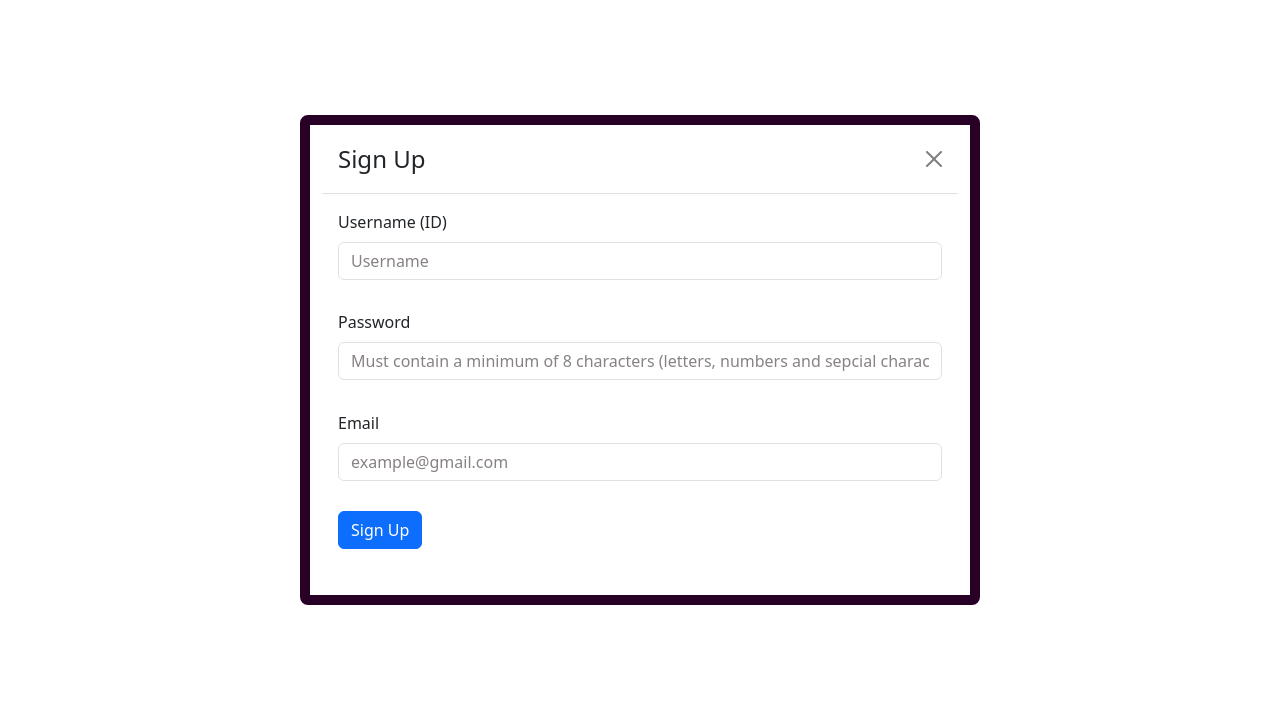
Test: Detects Invalid Email in Email Input via Regex
Type "ThisIsn'tValidString" into the field labelled "Email" at (640, 462), box [338, 442, 942, 480]
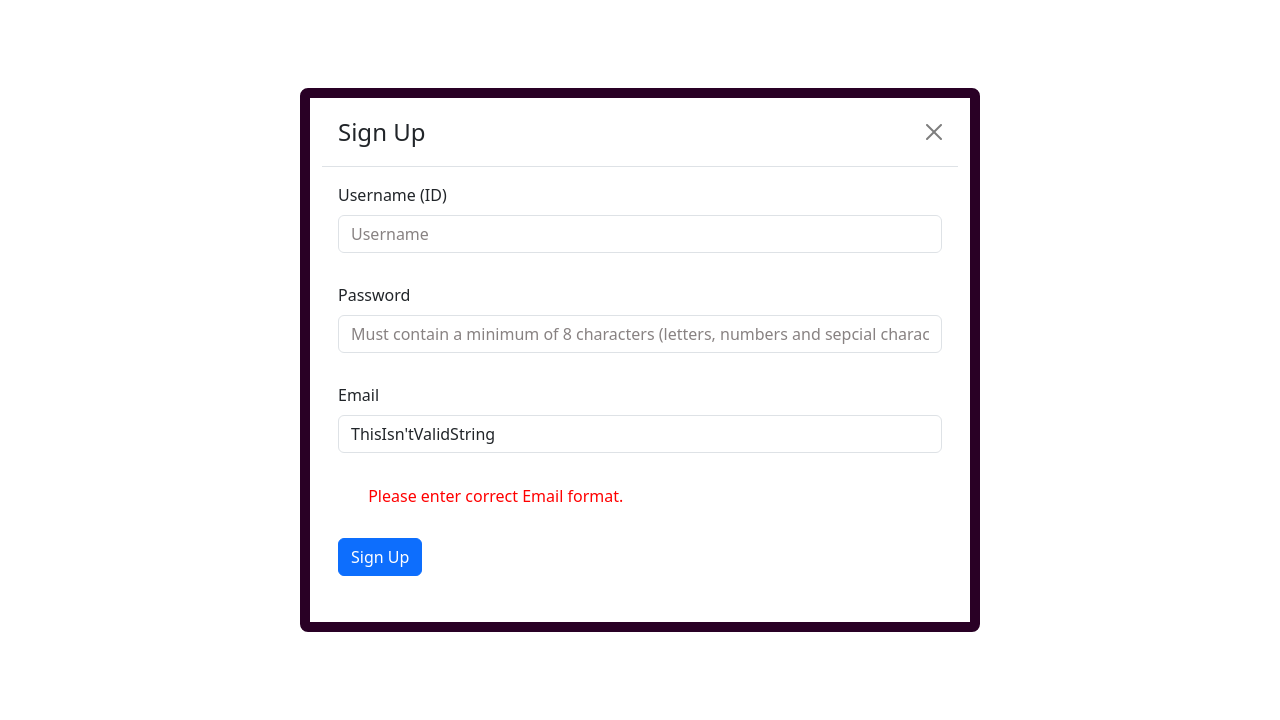
Expected: the text "Please enter correct Email format." is shown, [368, 485, 623, 507]
